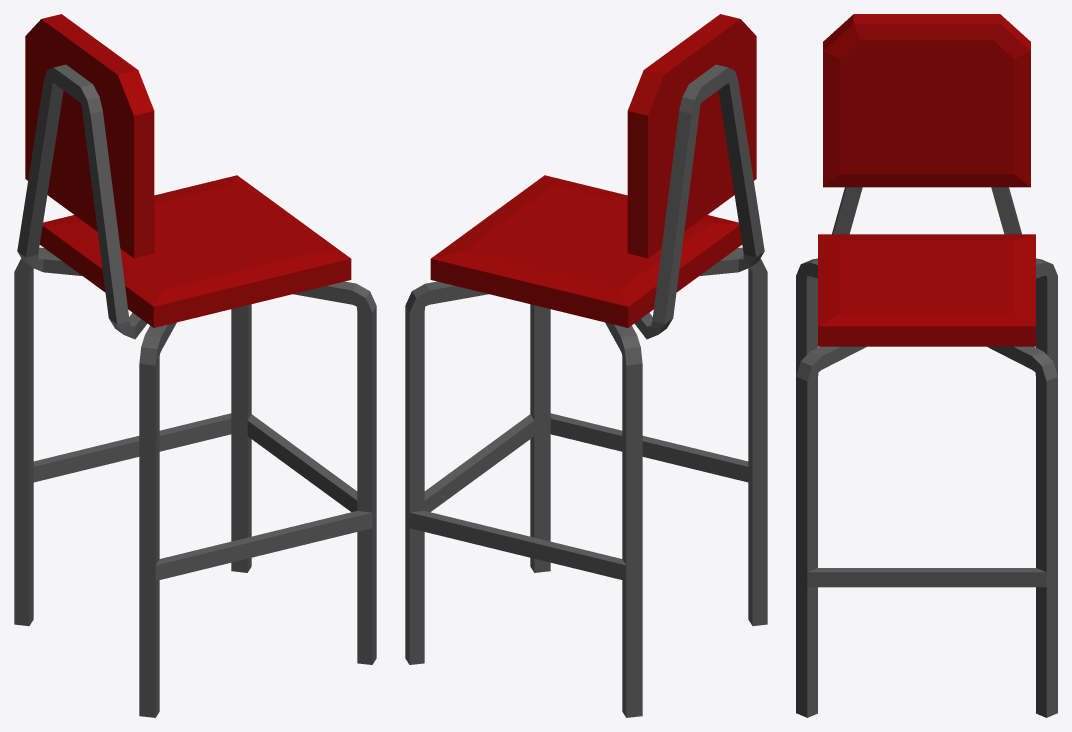
The model's file is HighTableChair.fbx.
3 renders of one model, left to right at view 1: azimuth 30°, elevation 25°; view 2: azimuth 150°, elevation 25°; view 3: azimuth 270°, elevation 25°, orthographic. The views are drawn at different scales.
Visible parts, largest first — view 1: Chair.055; view 2: Chair.055; view 3: Chair.055.
Part boxes in pixels (left/top/right/bottom): Chair.055: left=14, top=14, right=376, bottom=717; Chair.055: left=405, top=14, right=767, bottom=717; Chair.055: left=796, top=14, right=1057, bottom=717.
Size of the model in its own units: 79.29 by 191 by 76.19.
